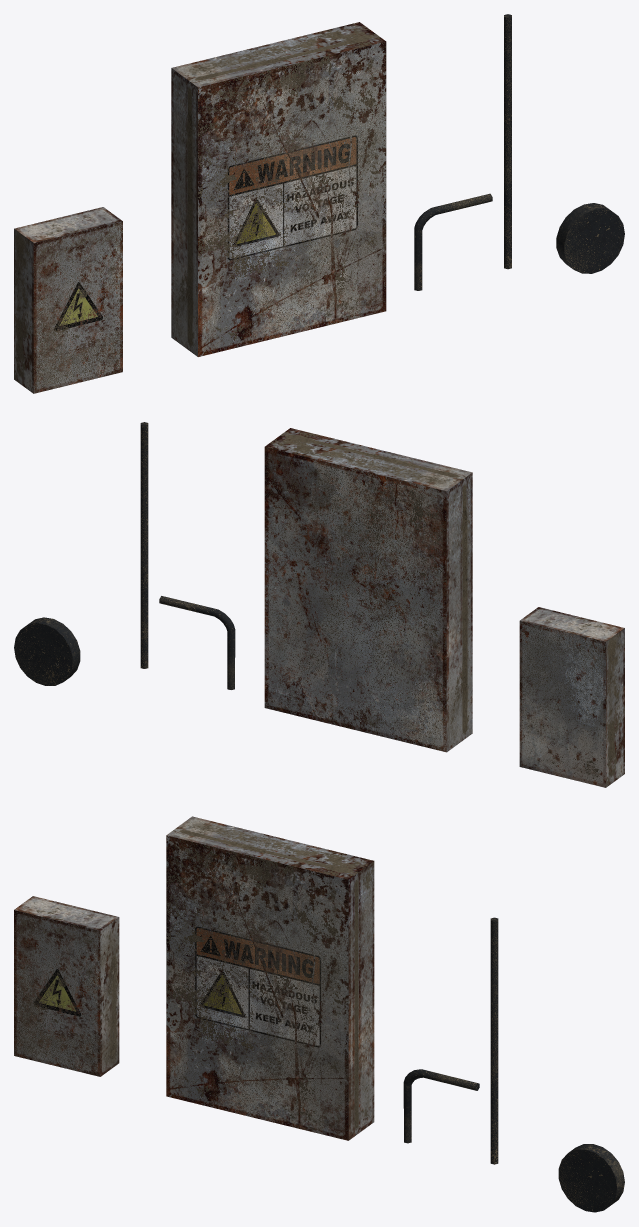
The model's file is Electric_1.FBX.
3 views of the same model, one above another, from view 1: azimuth 30°, elevation 25°; view 2: azimuth 150°, elevation 25°; view 3: azimuth 330°, elevation 25° (orthographic). The views are drawn at different scales.
Visible parts, largest first — view 1: Box_Electro, Box_Electro_2, Connecter, Connection, Connection_1; view 2: Box_Electro, Box_Electro_2, Connecter, Connection, Connection_1; view 3: Box_Electro, Box_Electro_2, Connecter, Connection, Connection_1.
Part boxes in pixels (left/top/right/bottom): Box_Electro: left=171, top=22, right=386, bottom=356; Box_Electro_2: left=14, top=207, right=122, bottom=393; Connecter: left=556, top=203, right=624, bottom=273; Connection: left=504, top=14, right=511, bottom=269; Connection_1: left=414, top=193, right=492, bottom=290; Box_Electro: left=264, top=428, right=472, bottom=752; Box_Electro_2: left=519, top=607, right=624, bottom=787; Connecter: left=14, top=617, right=80, bottom=685; Connection: left=140, top=422, right=148, bottom=668; Connection_1: left=159, top=596, right=235, bottom=689; Box_Electro: left=166, top=816, right=374, bottom=1140; Box_Electro_2: left=14, top=896, right=119, bottom=1076; Connecter: left=558, top=1144, right=624, bottom=1212; Connection: left=490, top=917, right=498, bottom=1164; Connection_1: left=403, top=1069, right=479, bottom=1143.
Bounding box in the file's own units: 5.46 × 2.59 × 0.4281.
